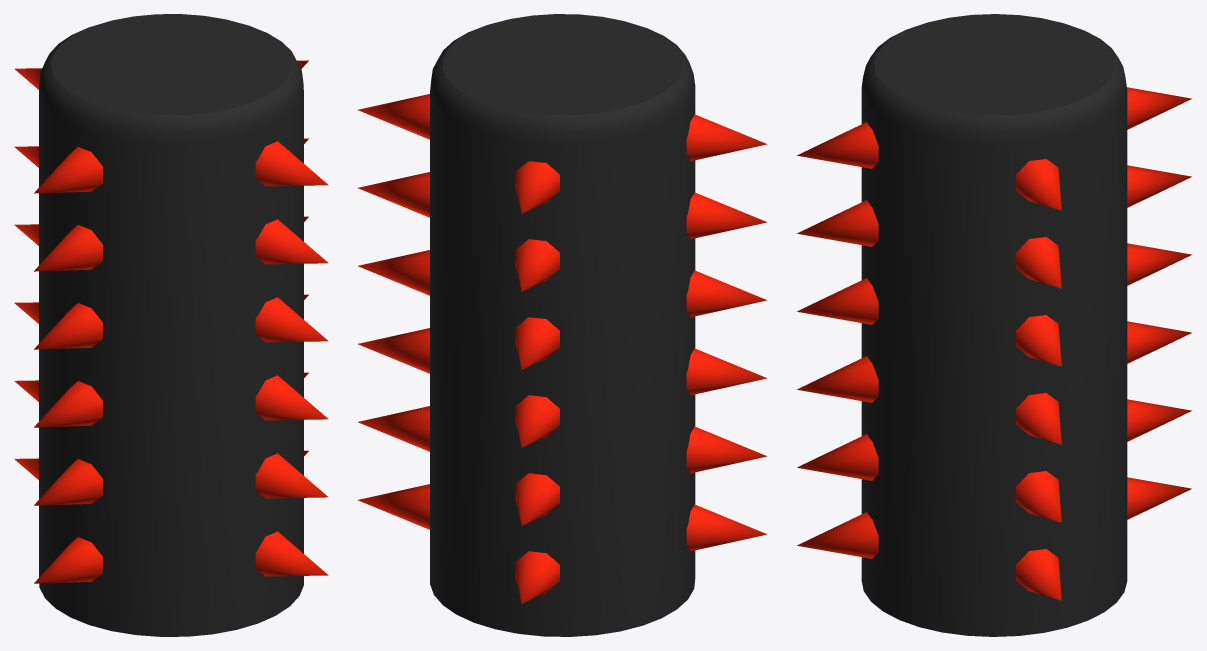
File: cylimder.fbx
3 renders of one model, left to right at view 1: azimuth 30°, elevation 25°; view 2: azimuth 150°, elevation 25°; view 3: azimuth 270°, elevation 25°, orthographic.
Visible parts, largest first — view 1: CylinderObstacle; view 2: CylinderObstacle; view 3: CylinderObstacle.
Boxes of the visible parts, <box> form: CylinderObstacle: <box>14,14,328,636</box>; CylinderObstacle: <box>357,14,767,636</box>; CylinderObstacle: <box>797,14,1191,636</box>.
Bounding box in the file's own units: 190 × 273 × 190.
